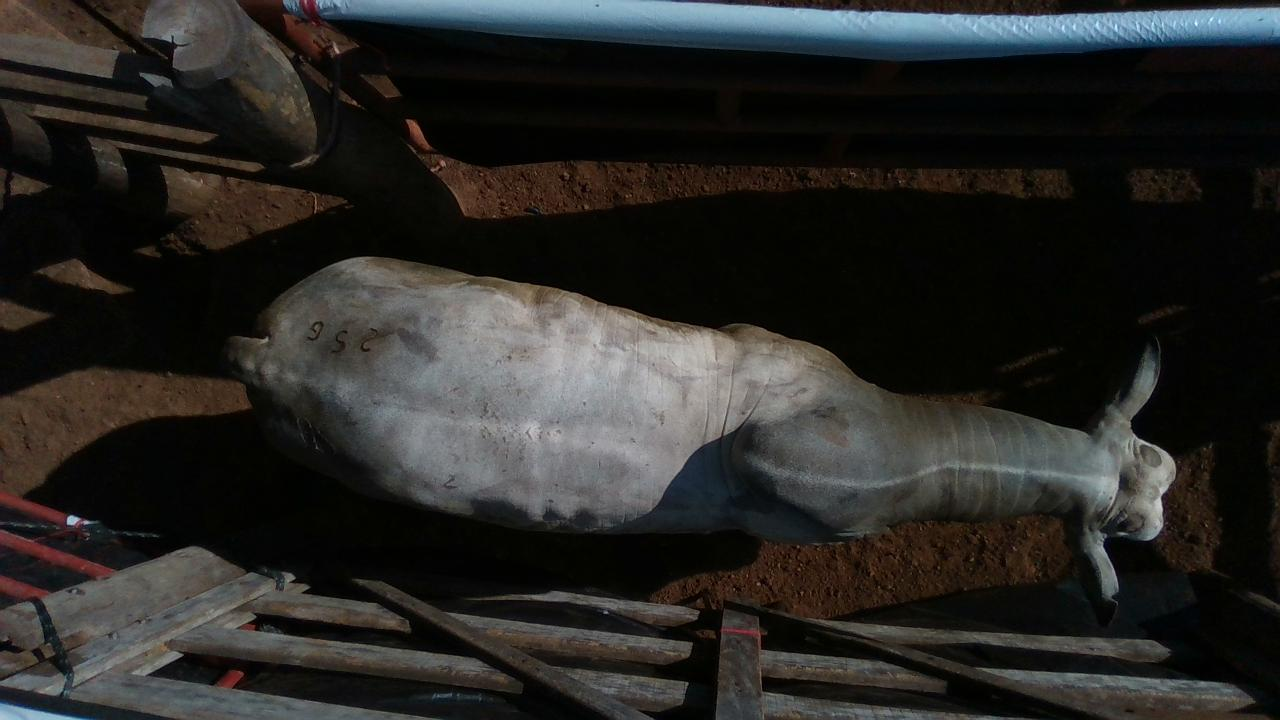cattle: (219, 253, 1178, 625)
